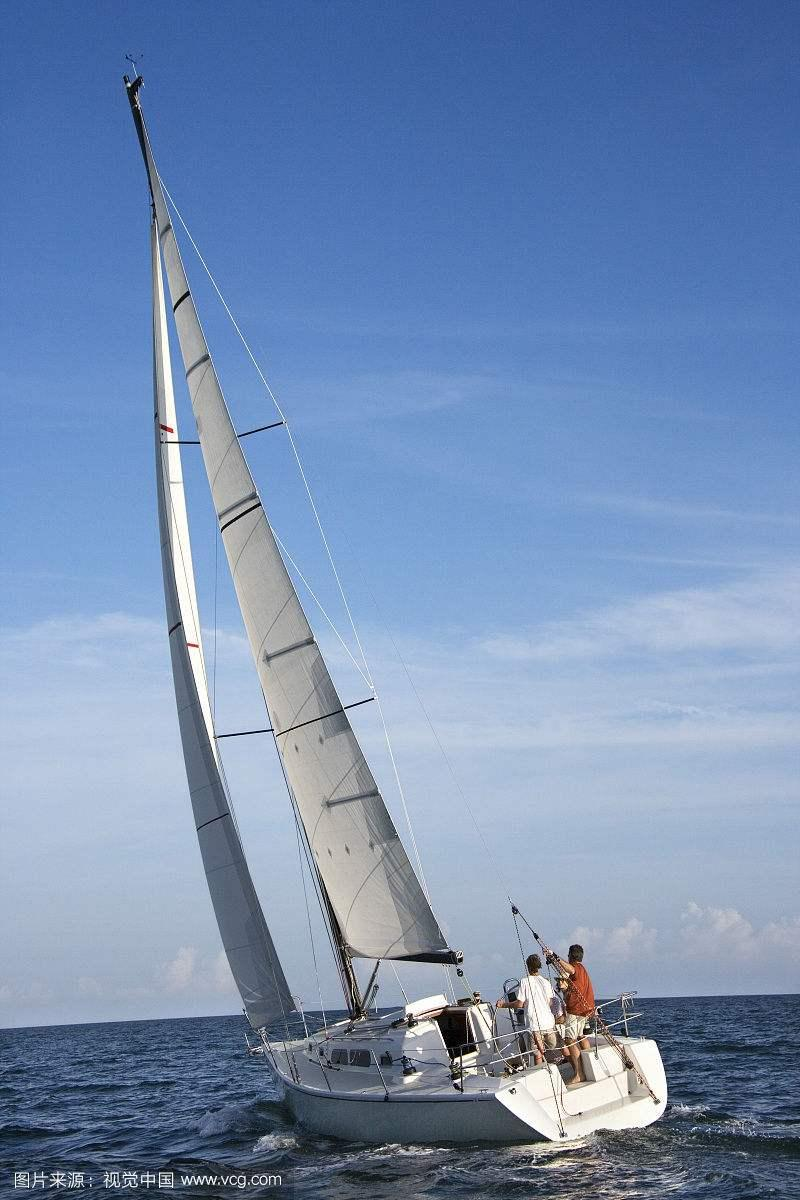fanchuan: (126, 53, 663, 1154)
